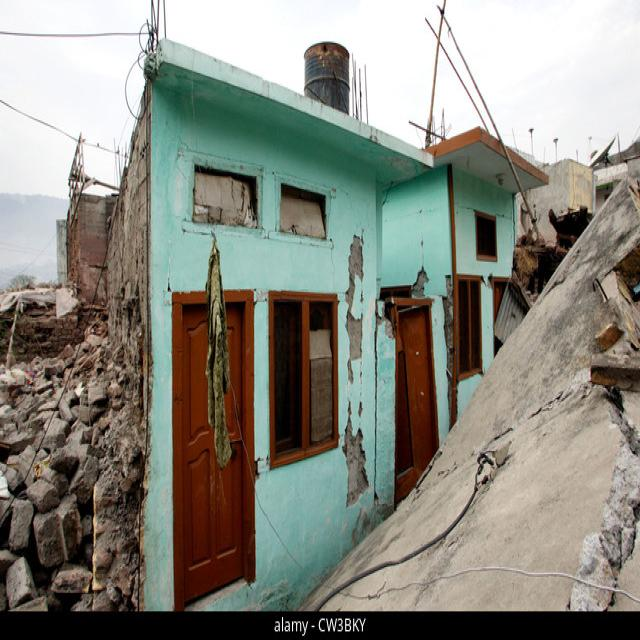metal: (301, 43, 356, 109), (492, 292, 523, 344)
trash: (5, 302, 137, 573)
